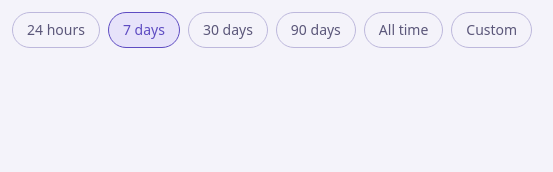
Scenario: DateRangeFilter › says the custom dates are browser-local, linked to both inputs
This screenshot has width=553, height=172.
What coordinates should you click on to do the following:
click the button "Custom"
I would click on:
 (492, 30)
Its box is left=451, top=12, right=532, bottom=48.
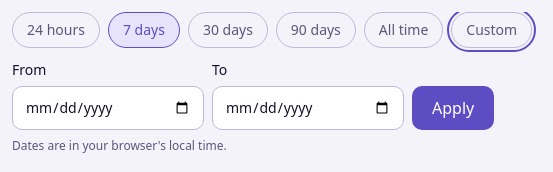
expect the text "Dates are in your browser's local time." is shown: met, box left=12, top=137, right=227, bottom=154
